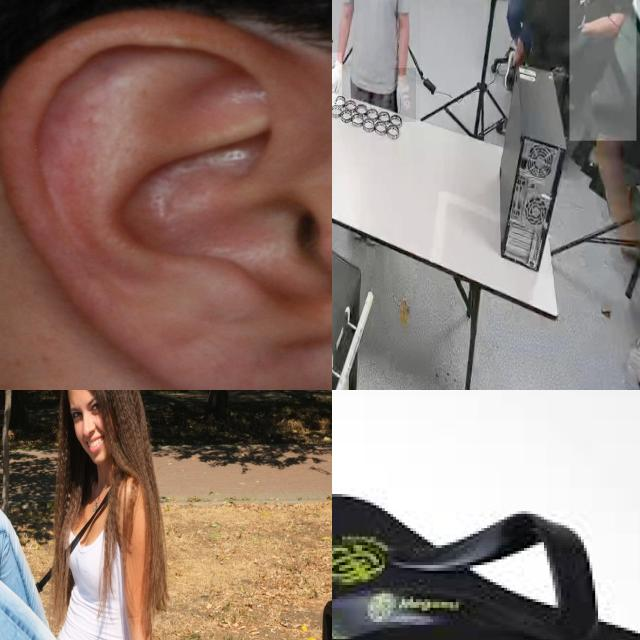No_Ear-Protection: (0, 3, 332, 390)
Sandals: (332, 435, 640, 640)
hand_glove: (394, 68, 416, 123), (332, 52, 342, 109)
person: (332, 0, 421, 120), (569, 0, 636, 141)
